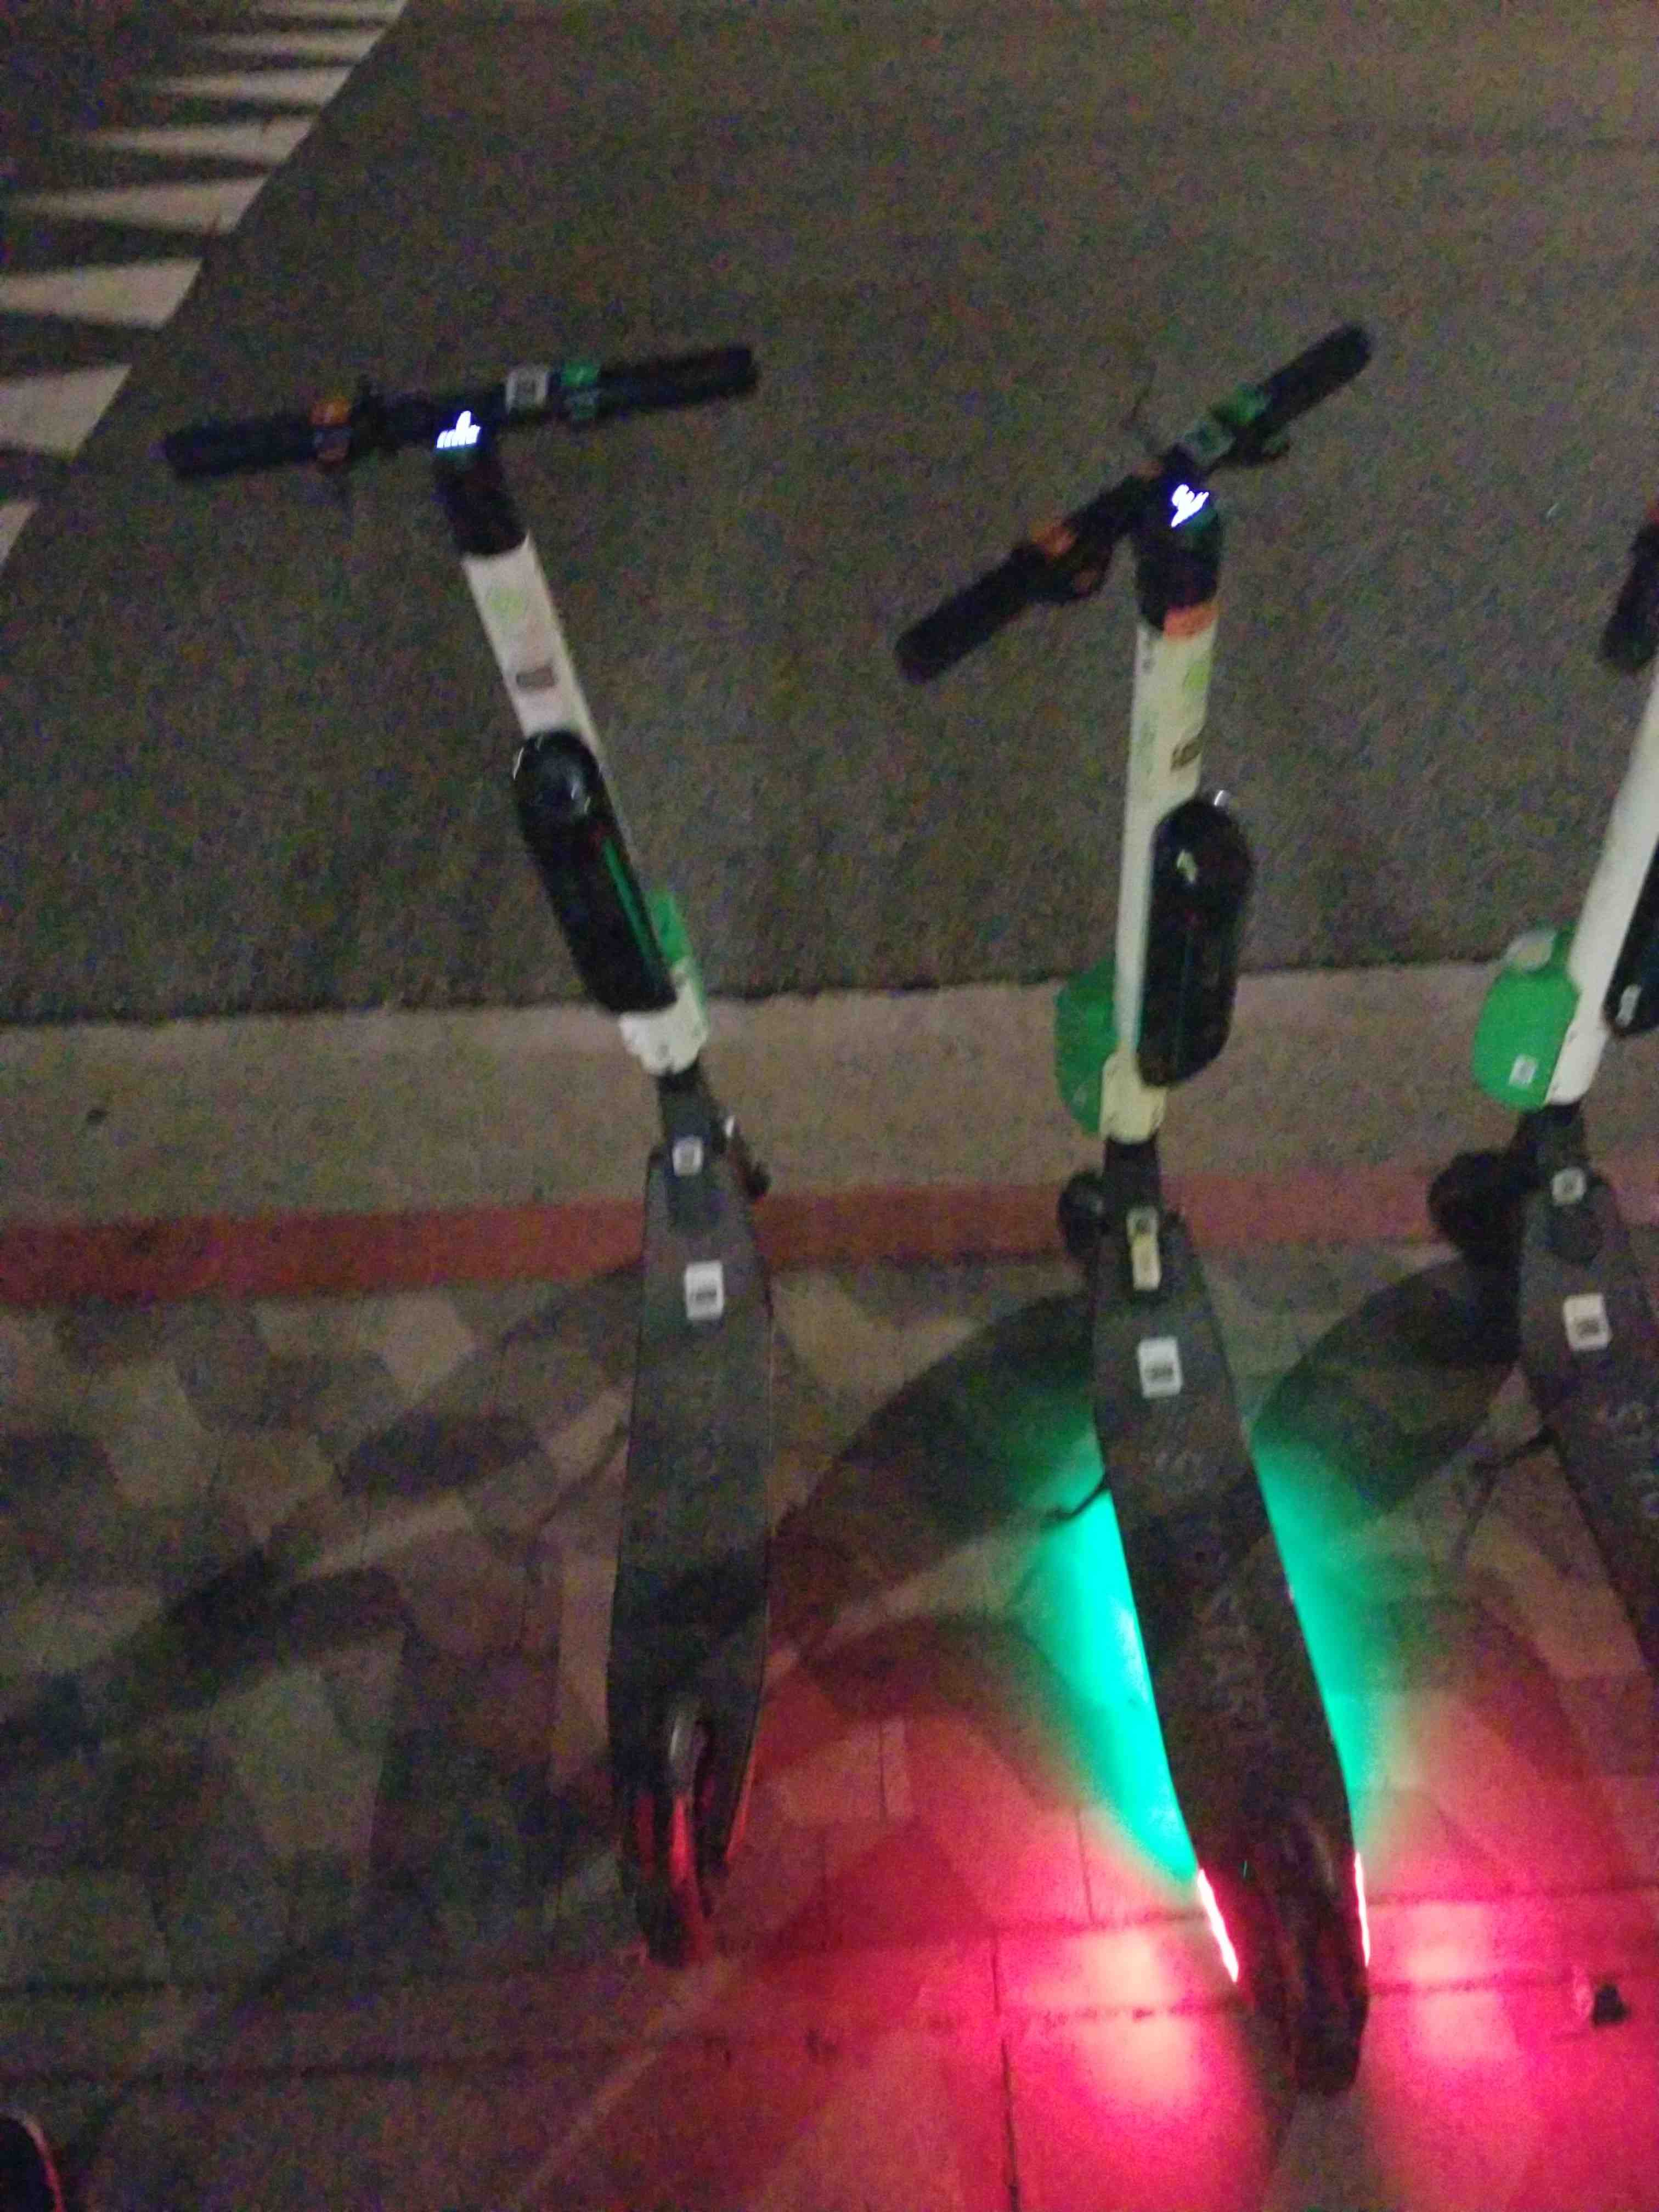scooter: (132, 333, 934, 1980), (847, 226, 1457, 2104)
